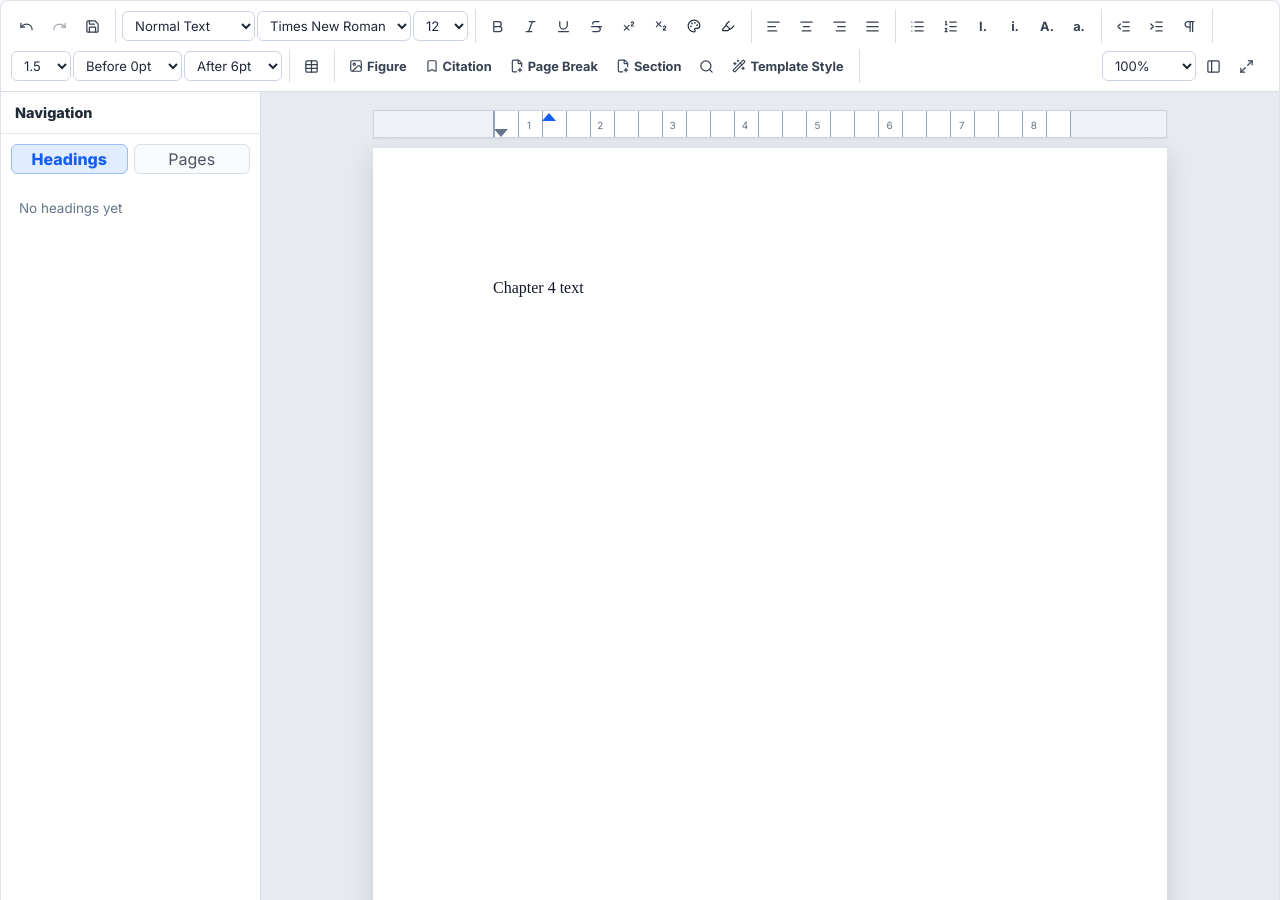
Phase 3 Project Evidence & Figures Frontend Components › ReportRichEditor Figure Extension › renders "Insert Figure" ribbon button when editing report section
The image size is (1280, 900).
// Clicking ribbon button opens InsertFigureModal
Click the button with aria-label "Insert Figure": (378, 66) [341,51,415,81]
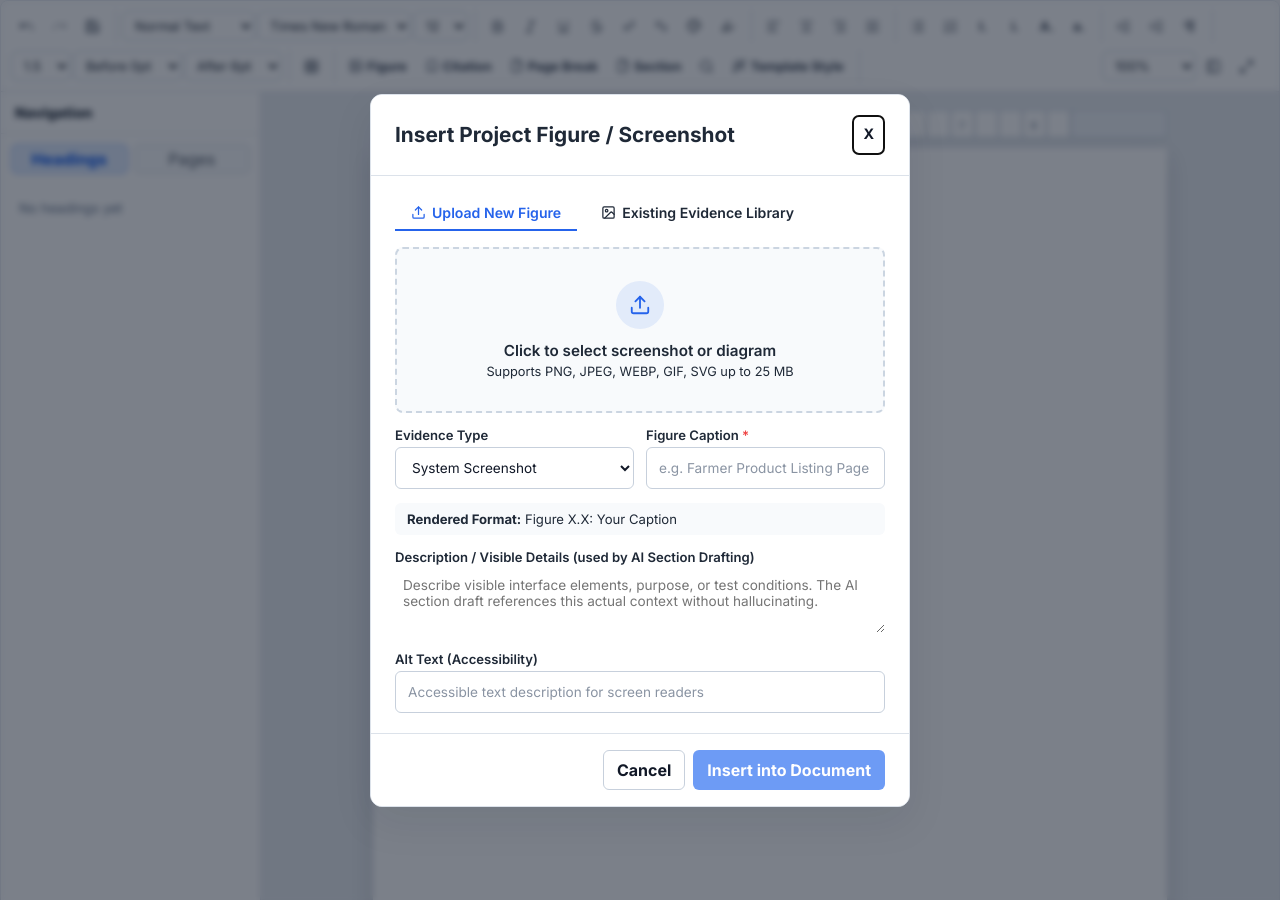
Check: the heading "Insert Project Figure / Screenshot" is shown, box [395,122,735,147]
